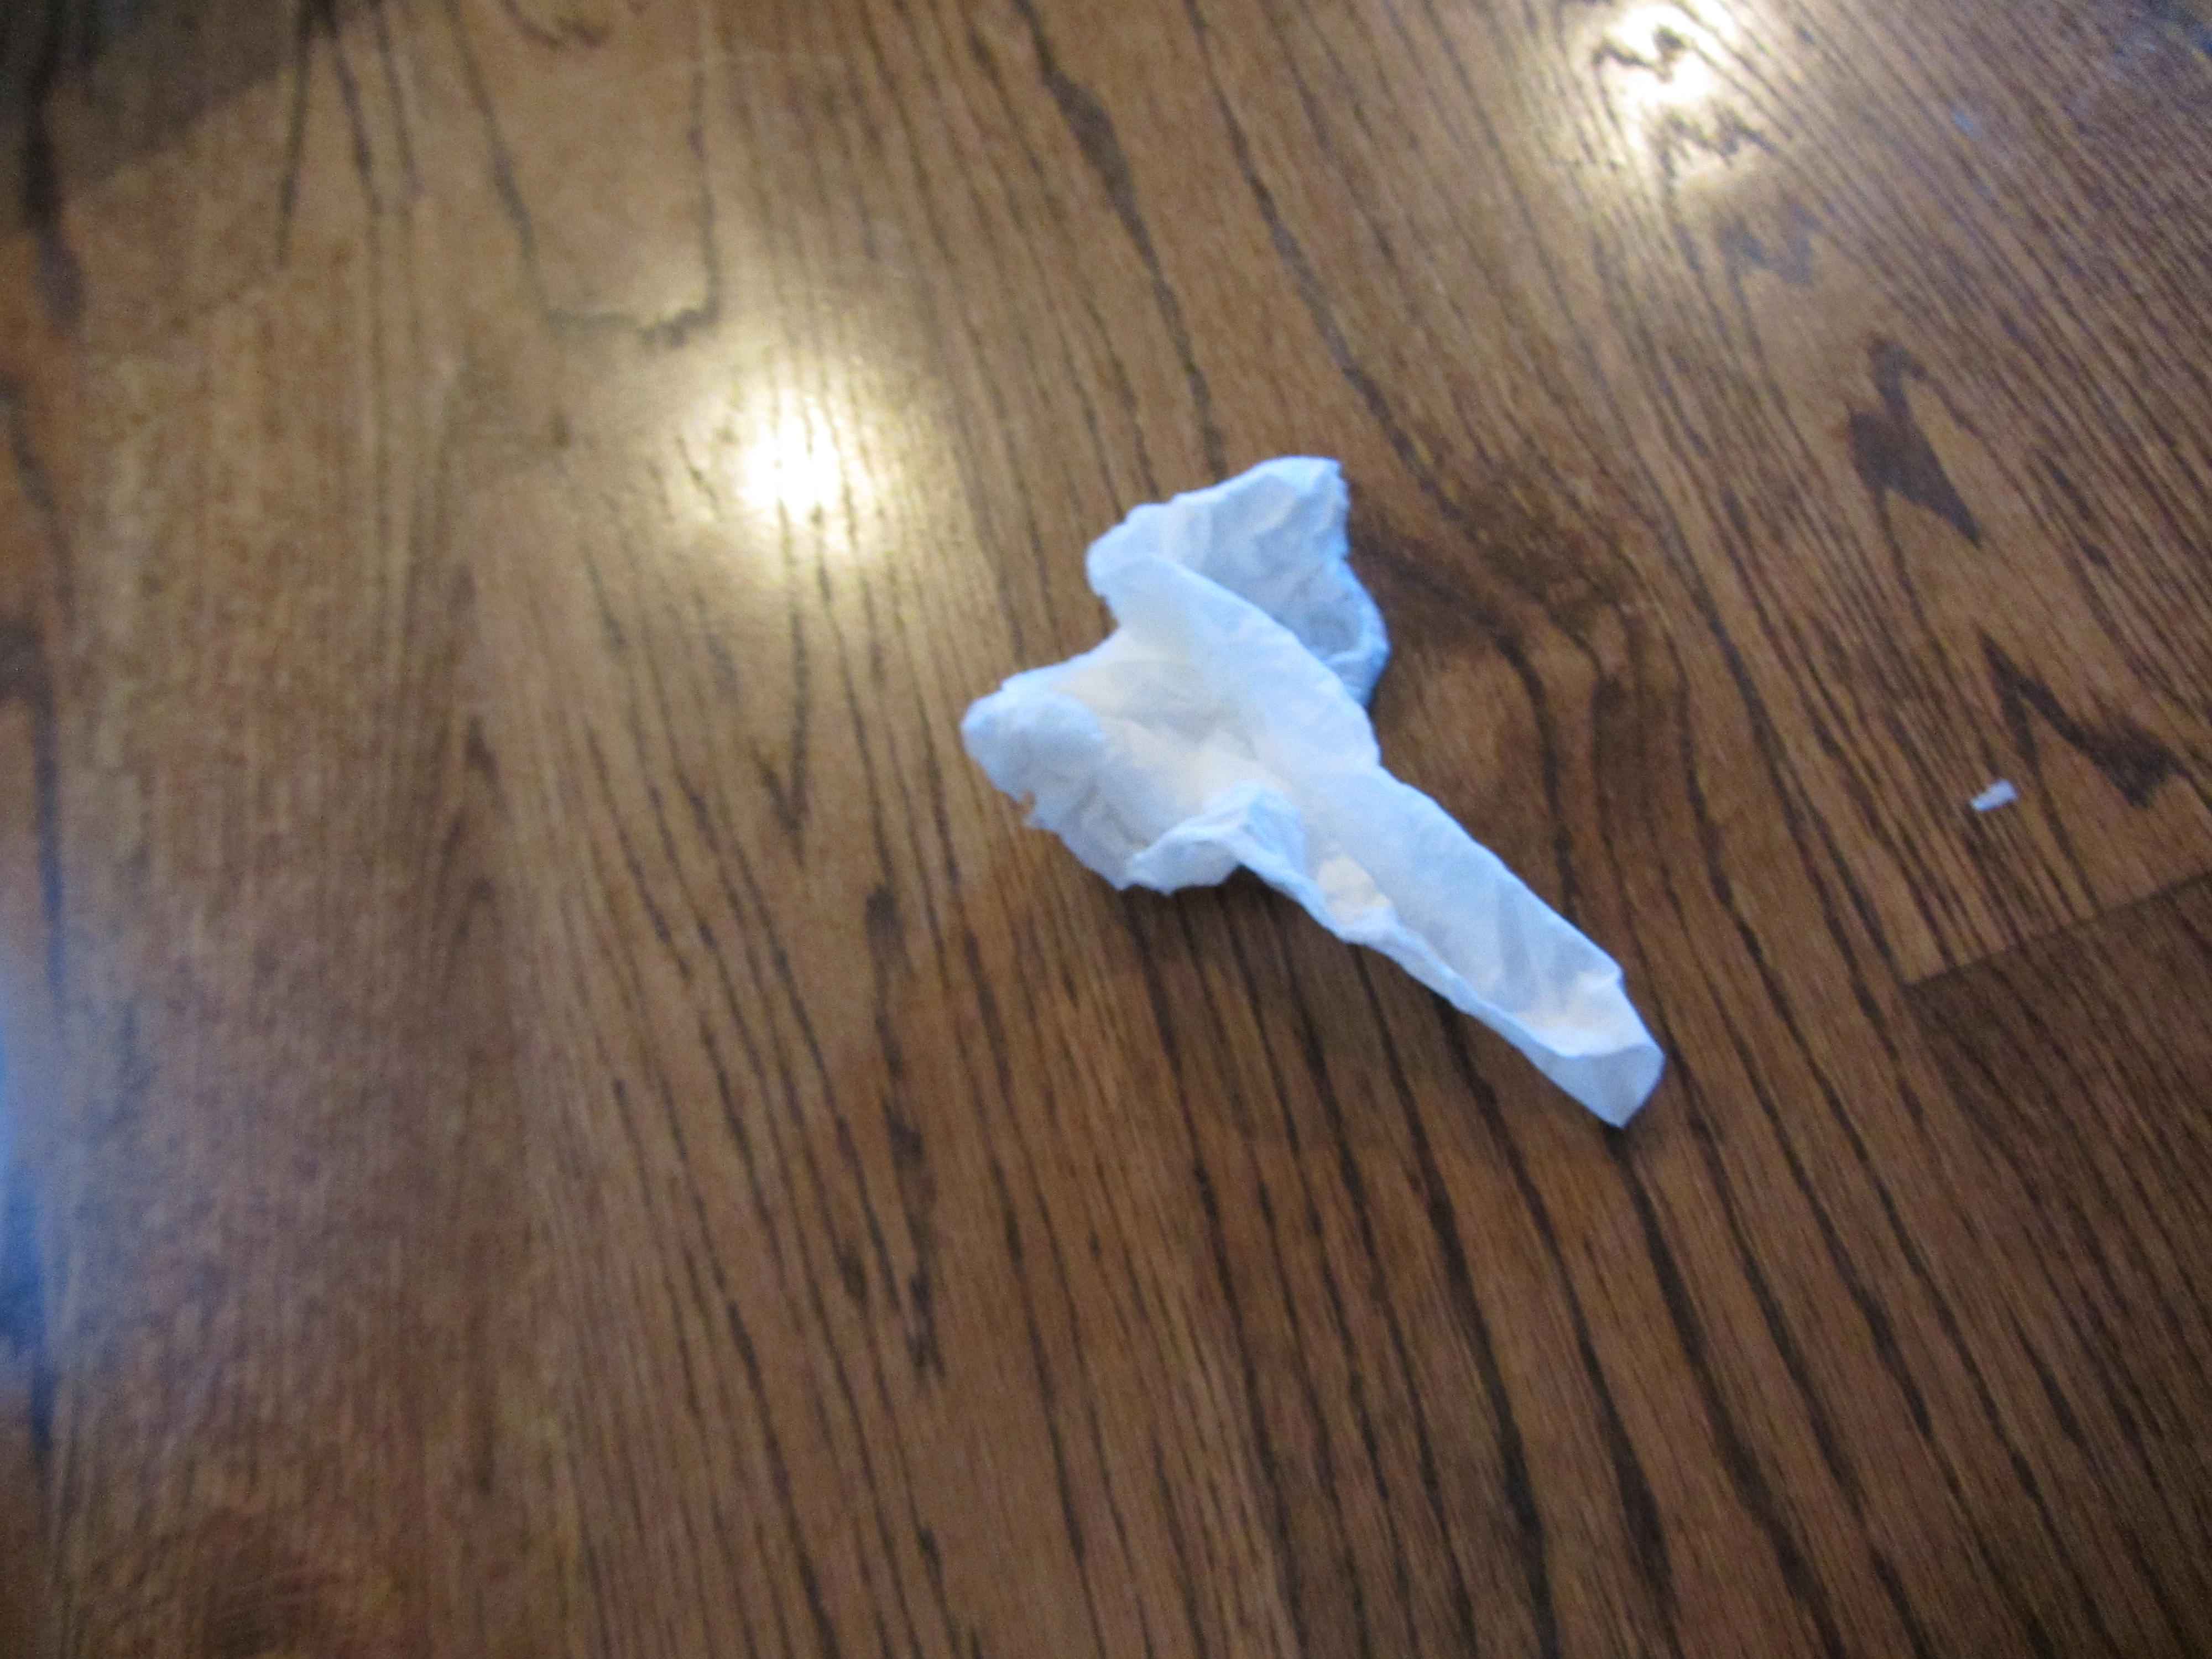tissue: (960, 437, 1688, 1121)
